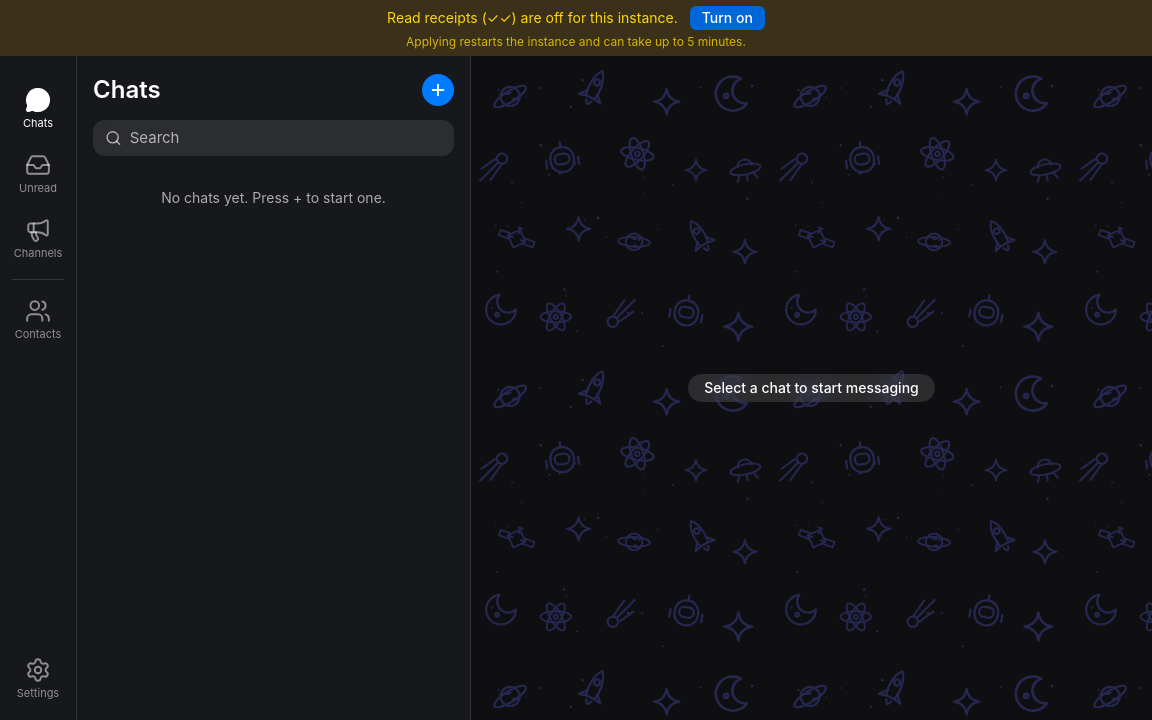
new contact › last name is optional and omitted from the request
The width and height of the screenshot is (1152, 720).
Click the button named "new chat" at (438, 90), box [422,74,454,106]
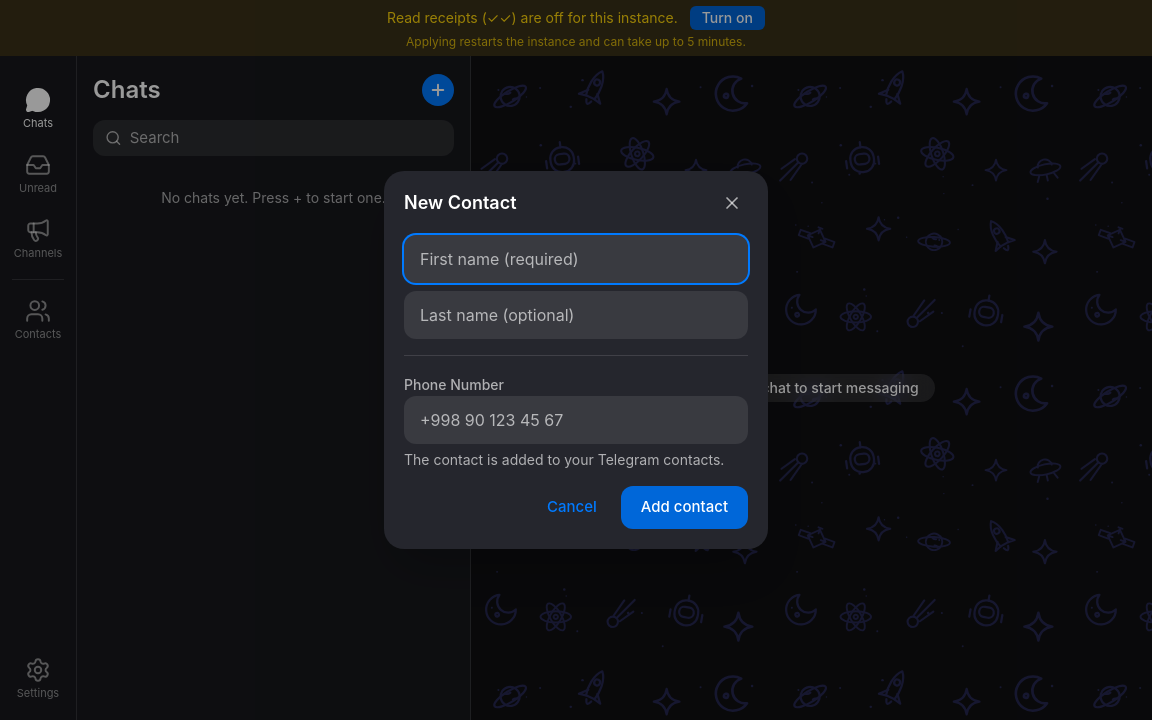
Type "Bob" into the field labelled "First name" at (576, 259), box [404,235,748,283]
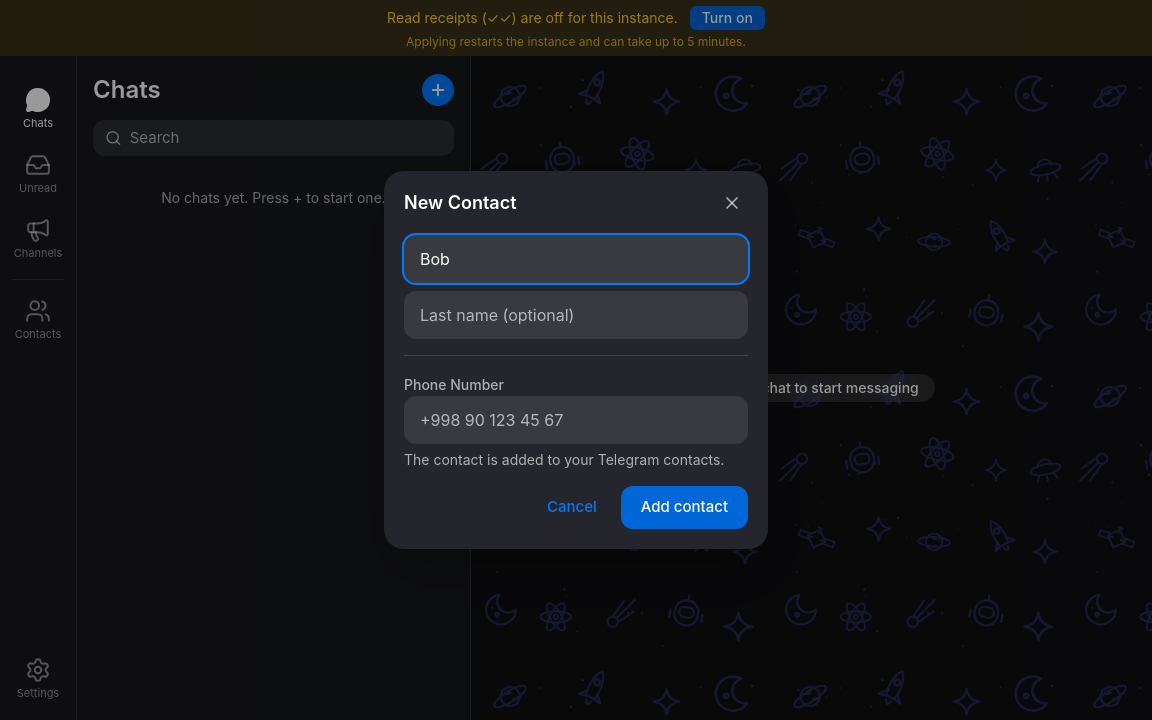
Type "998901112233" into the field labelled "Phone Number" at (576, 420), box [404,396,748,444]
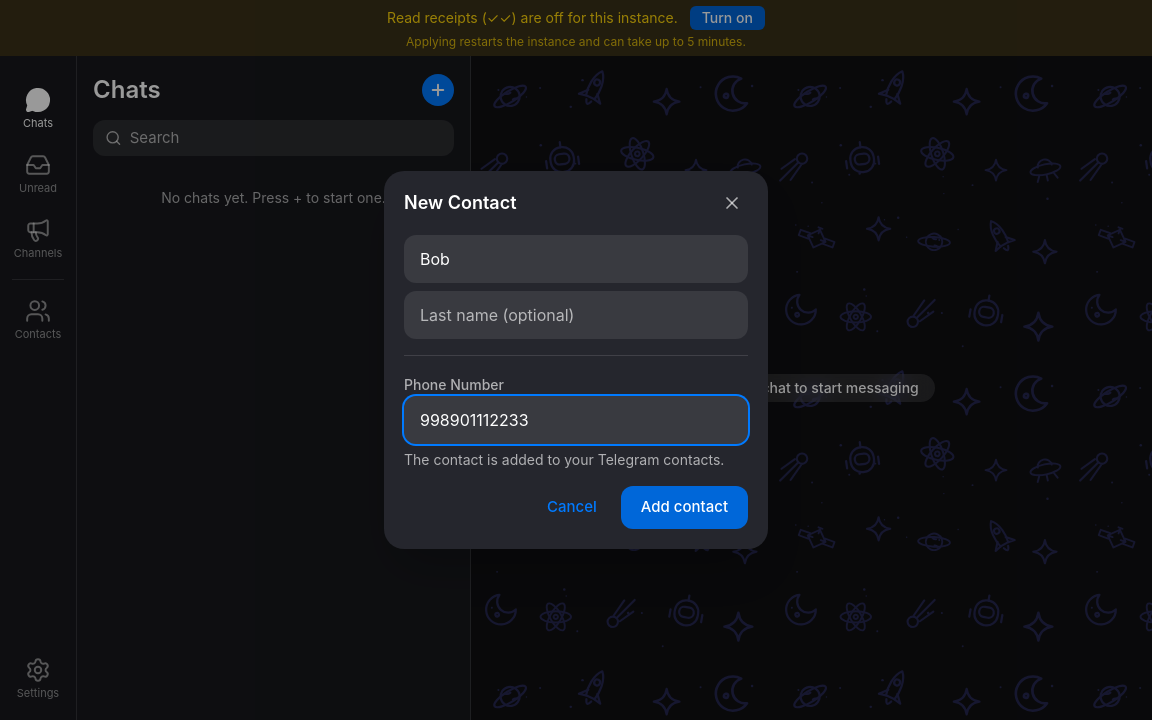
Click the button "Add contact" at (684, 508), box [621,486,748,529]
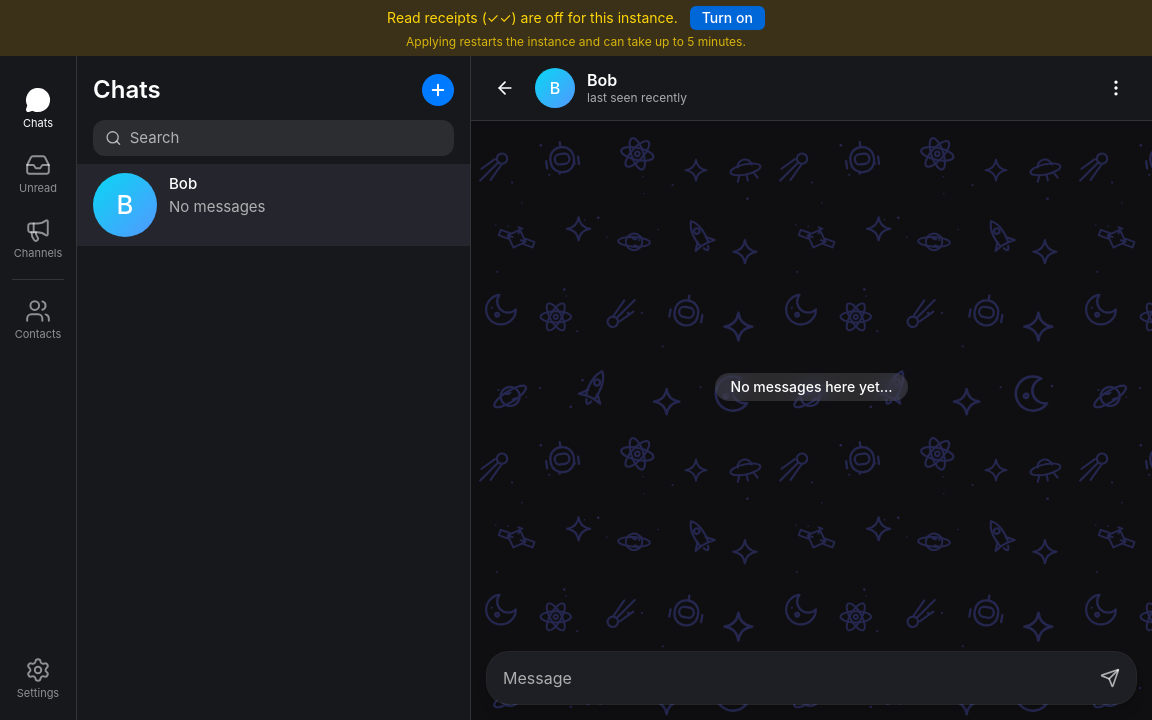
Expected: the text "Bob" is shown, [169,174,197,194]
